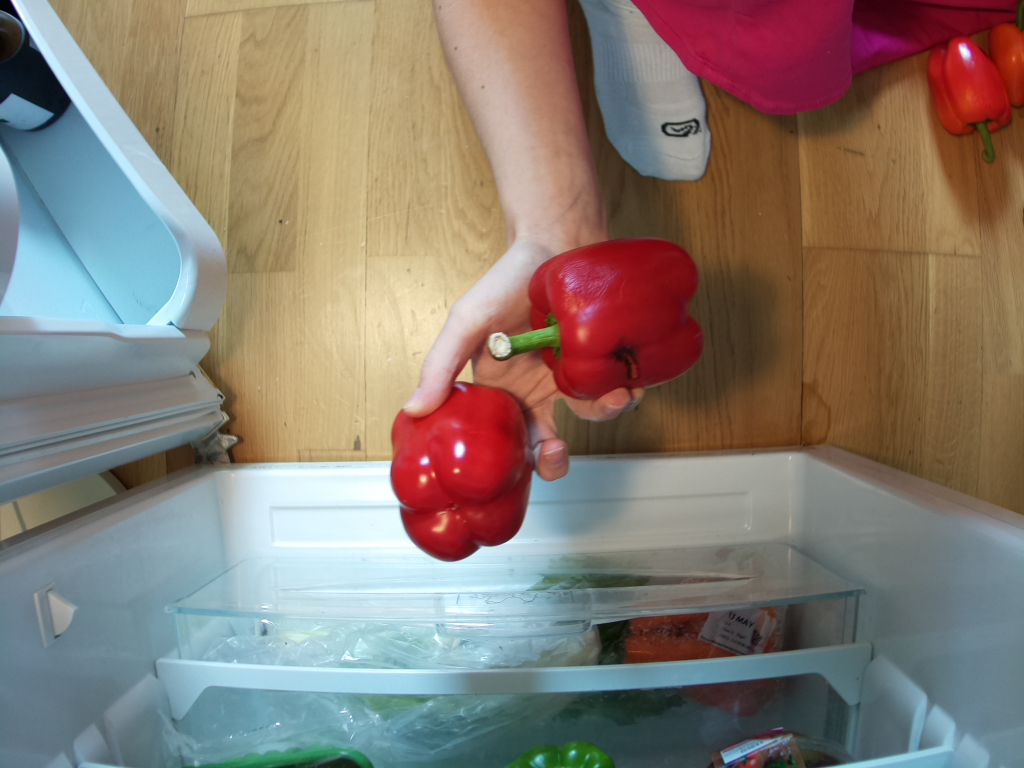pepper: (389, 383, 535, 562)
pepper-bad: (494, 236, 708, 402)
